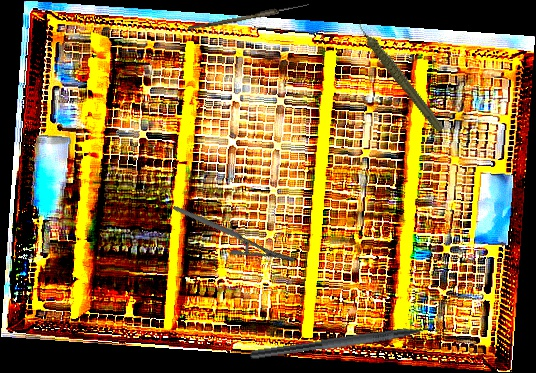Chopper: (249, 319, 452, 373)
Handpiece: (356, 6, 445, 144)
Needle Holder: (172, 174, 296, 293)
Surgical Spoon: (187, 1, 310, 33)
